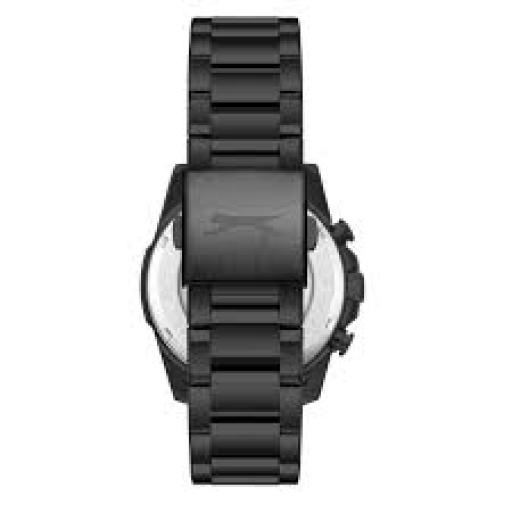KolSaati: (128, 9, 370, 509)
